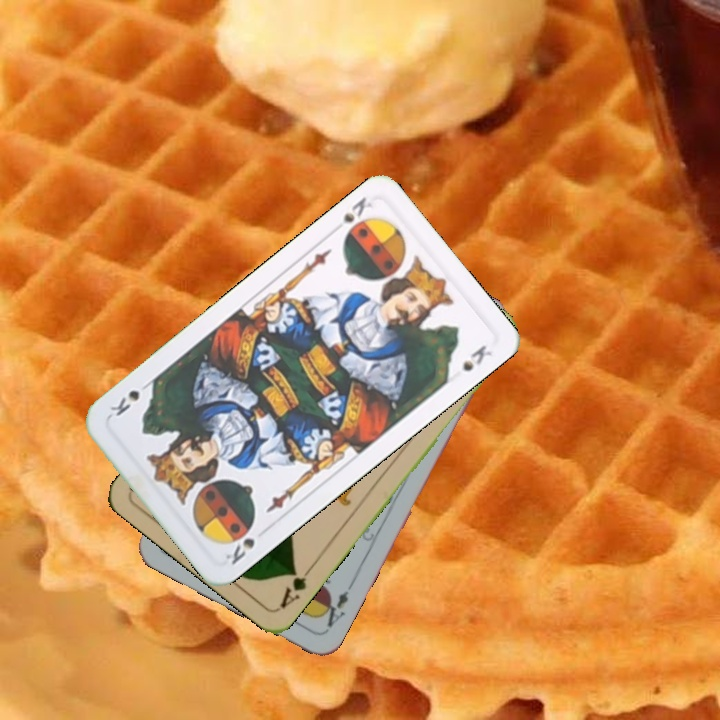EA: (315, 586, 351, 630)
GA: (276, 560, 317, 611)
SK: (327, 192, 375, 236), (221, 520, 258, 568)
